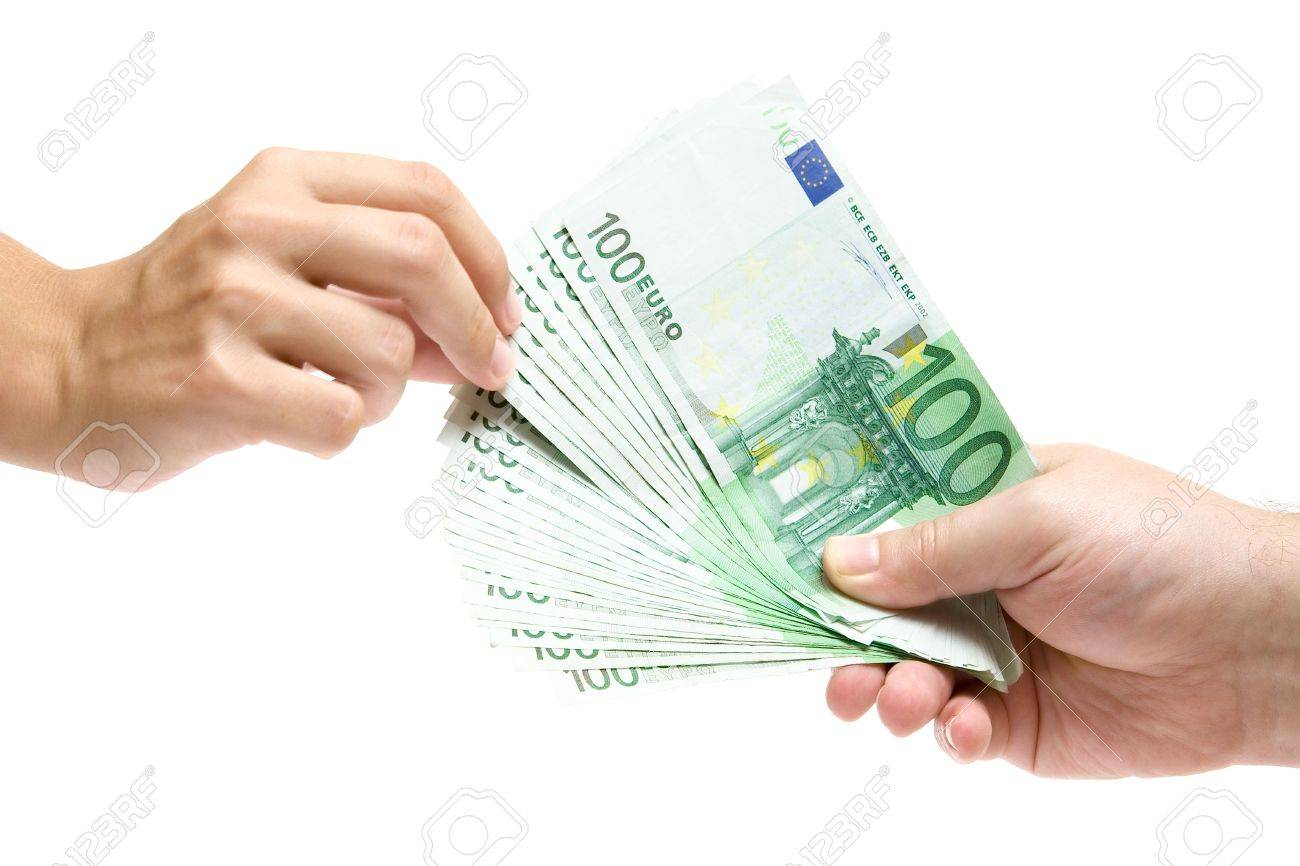billete: (424, 69, 1045, 707)
